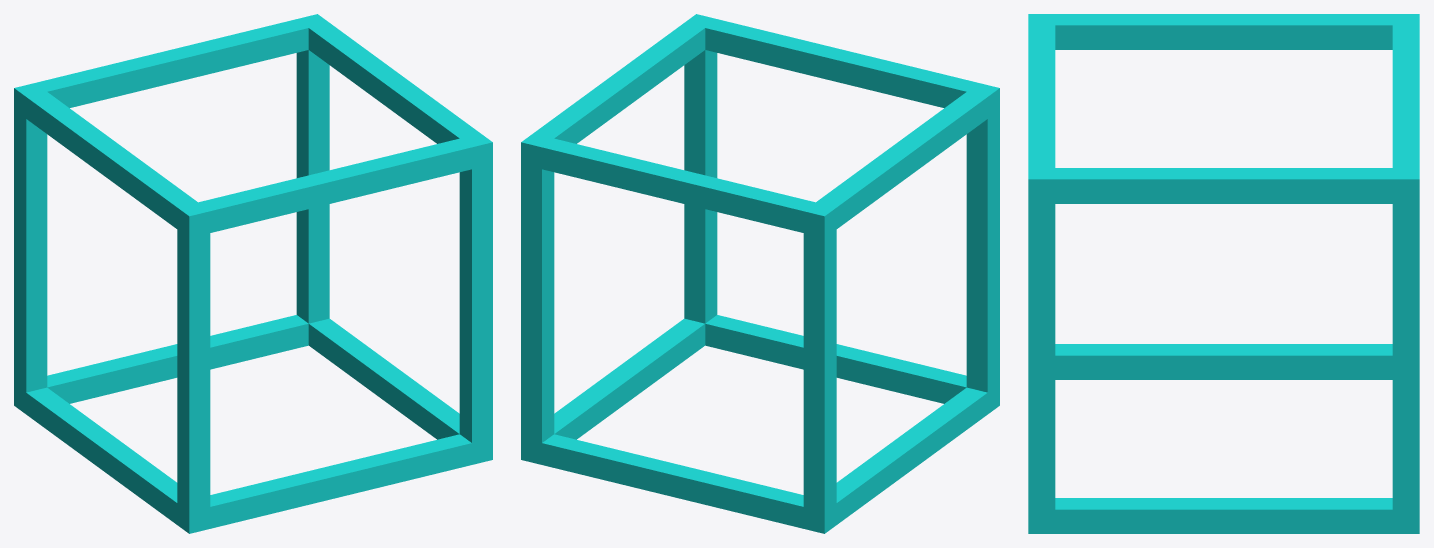
The picture shows the model from 3 angles, left to right: view 1: azimuth 30°, elevation 25°; view 2: azimuth 150°, elevation 25°; view 3: azimuth 270°, elevation 25°; orthographic projection. The views are drawn at different scales.
Parts seen in each view (by area): view 1: Куб; view 2: Куб; view 3: Куб.
Part boxes in pixels (box(x1,y1,x2,y2)): Куб: box(14, 14, 492, 533); Куб: box(521, 14, 999, 533); Куб: box(1028, 14, 1419, 533).
Size of the model in its own units: 2.32 by 2.32 by 2.32.
